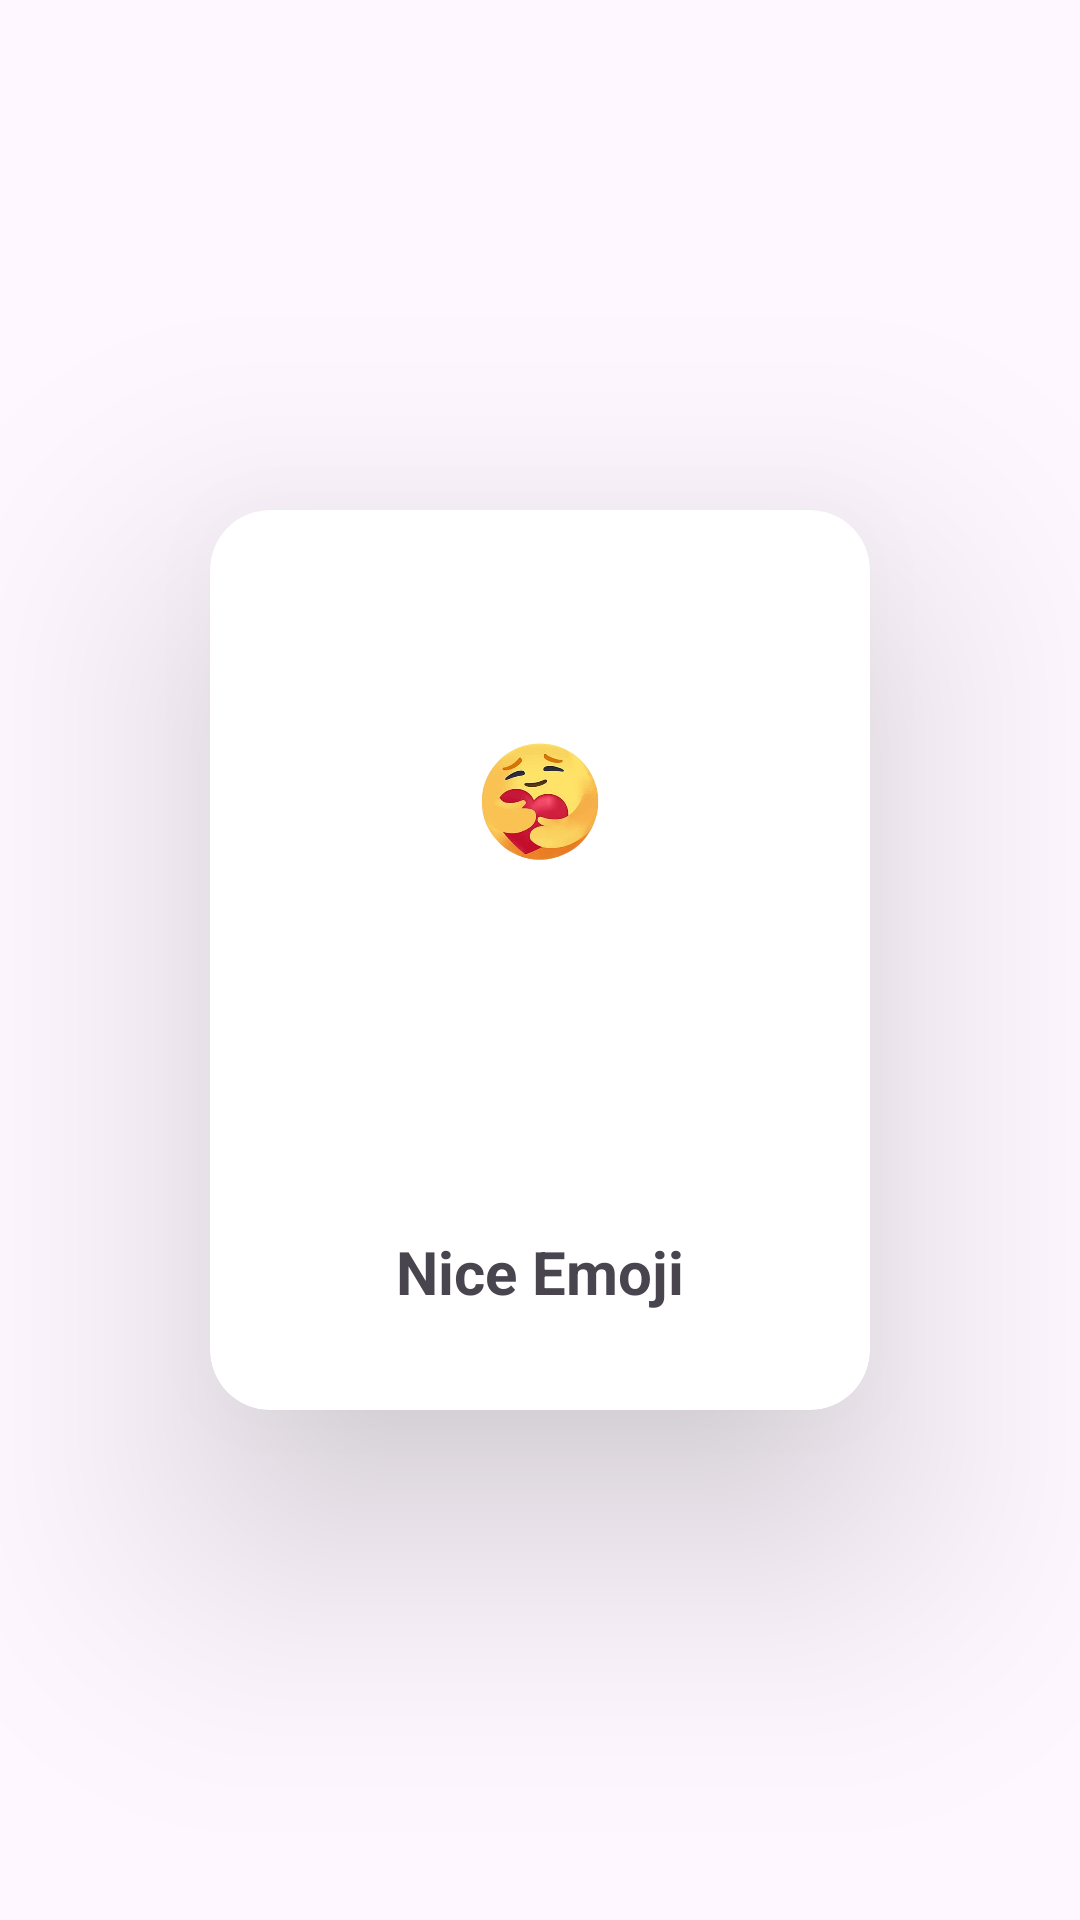

Where icons sit on this 1080 x 1920 app screen, as (x1, y1, x2, y2):
emoji: (482, 743, 598, 860)
